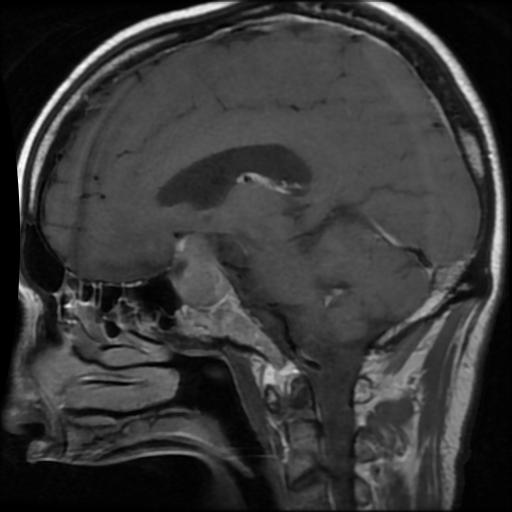Pituirity_tumour: (170, 233, 226, 300)
